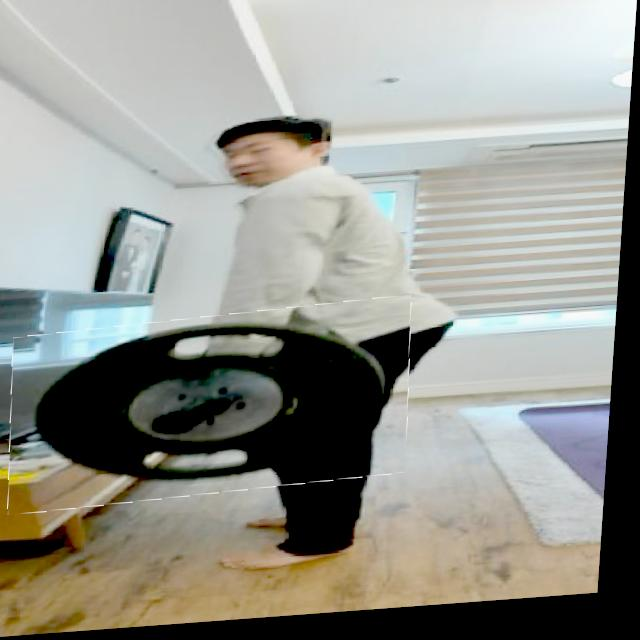barbell: (12, 307, 421, 514)
